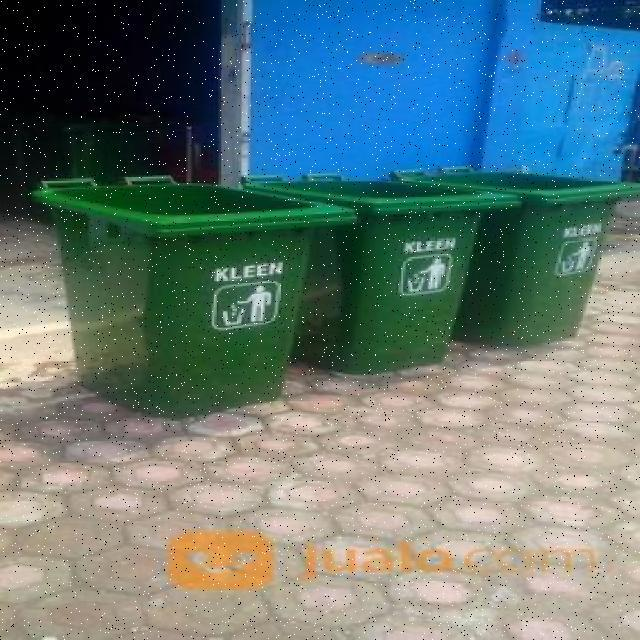garbage container: (26, 173, 359, 427)
